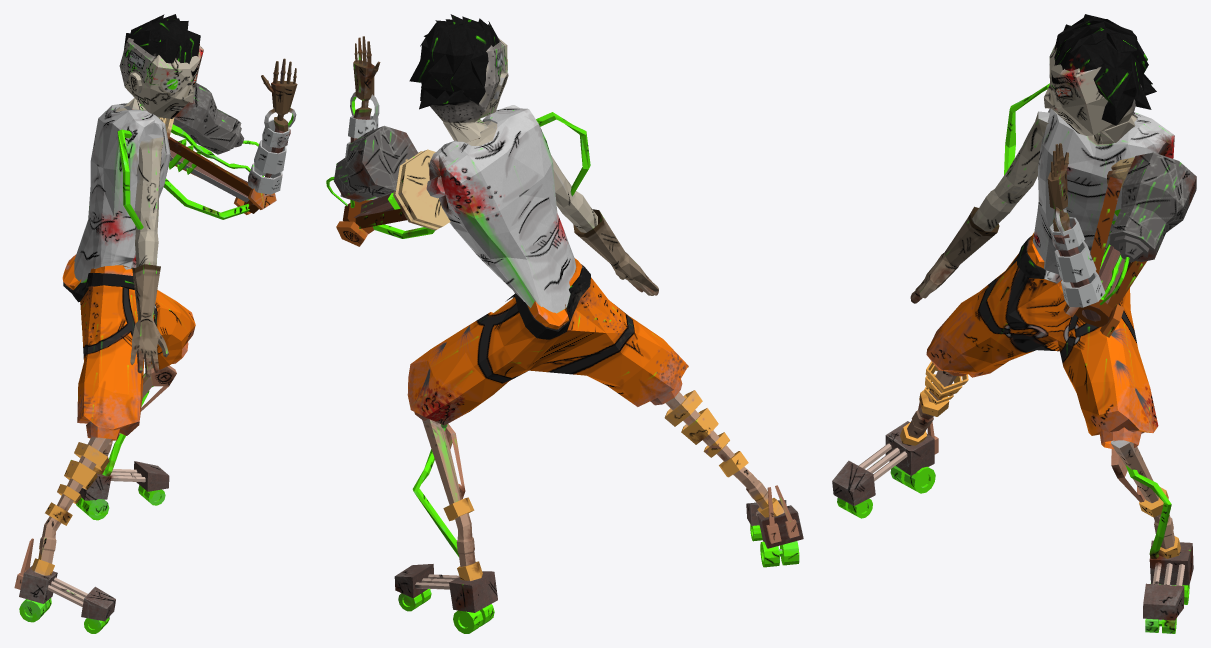
File: CyborgFINALAnimation_000059.obj
The picture shows the model from 3 angles, left to right: view 1: azimuth 30°, elevation 25°; view 2: azimuth 150°, elevation 25°; view 3: azimuth 270°, elevation 25°; orthographic projection. The views are drawn at different scales.
Parts seen in each view (by area): view 1: CyborgMesh_Cube.002; view 2: CyborgMesh_Cube.002; view 3: CyborgMesh_Cube.002.
Part boxes in pixels (x1,y1,x2,y2): CyborgMesh_Cube.002: (14,14,297,633); CyborgMesh_Cube.002: (326,14,803,633); CyborgMesh_Cube.002: (832,14,1196,633).
Bounding box in the file's own units: 6.05 × 8.64 × 4.71.
